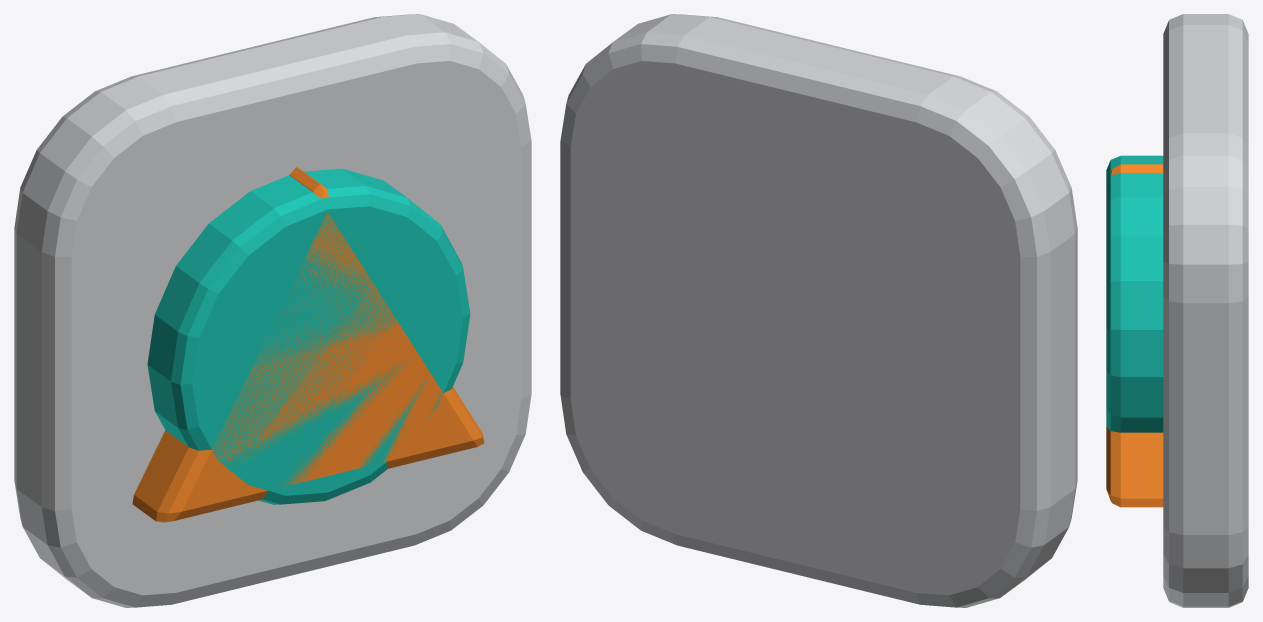
The model's file is Identity.fbx.
3 views of the same model, side by side, from view 1: azimuth 30°, elevation 25°; view 2: azimuth 150°, elevation 25°; view 3: azimuth 270°, elevation 25° (orthographic). The views are drawn at different scales.
Parts seen in each view (by area): view 1: SH_Prop_Badge_Plate, SH_Prop_Badge_Circle, SH_Prop_Badge_Tri; view 2: SH_Prop_Badge_Plate; view 3: SH_Prop_Badge_Plate, SH_Prop_Badge_Circle, SH_Prop_Badge_Tri.
Part boxes in pixels (x1,y1,x2,y2): SH_Prop_Badge_Plate: [14, 14, 531, 607]; SH_Prop_Badge_Circle: [147, 168, 470, 504]; SH_Prop_Badge_Tri: [132, 167, 484, 522]; SH_Prop_Badge_Plate: [560, 14, 1077, 607]; SH_Prop_Badge_Plate: [1163, 14, 1248, 607]; SH_Prop_Badge_Circle: [1106, 155, 1163, 432]; SH_Prop_Badge_Tri: [1106, 164, 1163, 507].
Size of the model in its own units: 180 by 180 by 50.
